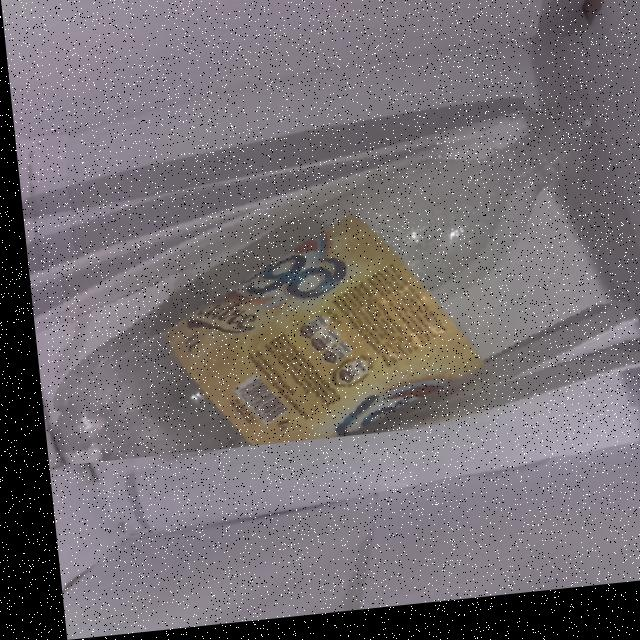litter: (14, 127, 631, 467)
